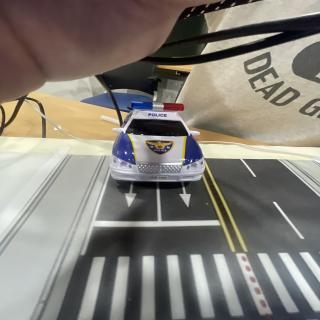Police_car: (110, 102, 205, 182)
